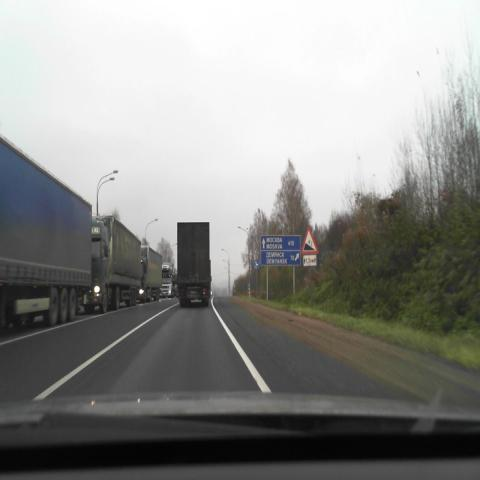1_13: (300, 226, 319, 253)
